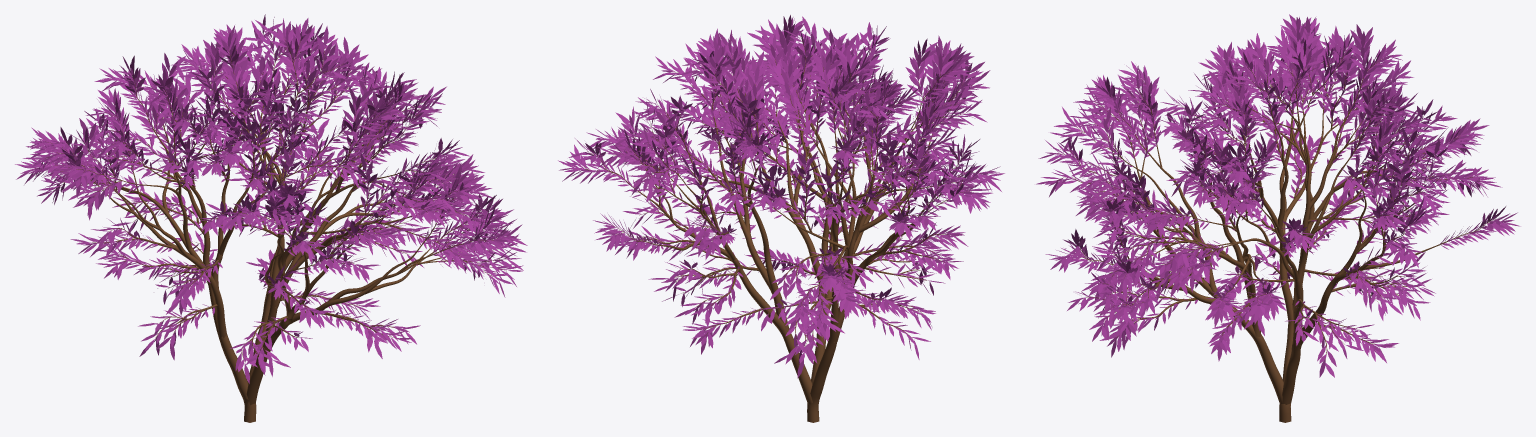
The model's file is Tree4.fbx.
3 renders of one model, left to right at view 1: azimuth 30°, elevation 25°; view 2: azimuth 150°, elevation 25°; view 3: azimuth 270°, elevation 25°, orthographic.
Parts seen in each view (by area): view 1: leaves, tree; view 2: leaves, tree; view 3: leaves, tree.
Boxes of the visible parts, x1,y1,x2,y2 form: leaves: [15, 14, 527, 383]; tree: [35, 34, 506, 422]; leaves: [558, 15, 1004, 378]; tree: [584, 37, 980, 422]; leaves: [1036, 14, 1520, 377]; tree: [1057, 52, 1494, 422].
Bounding box in the file's own units: 1050 × 914 × 1105.
